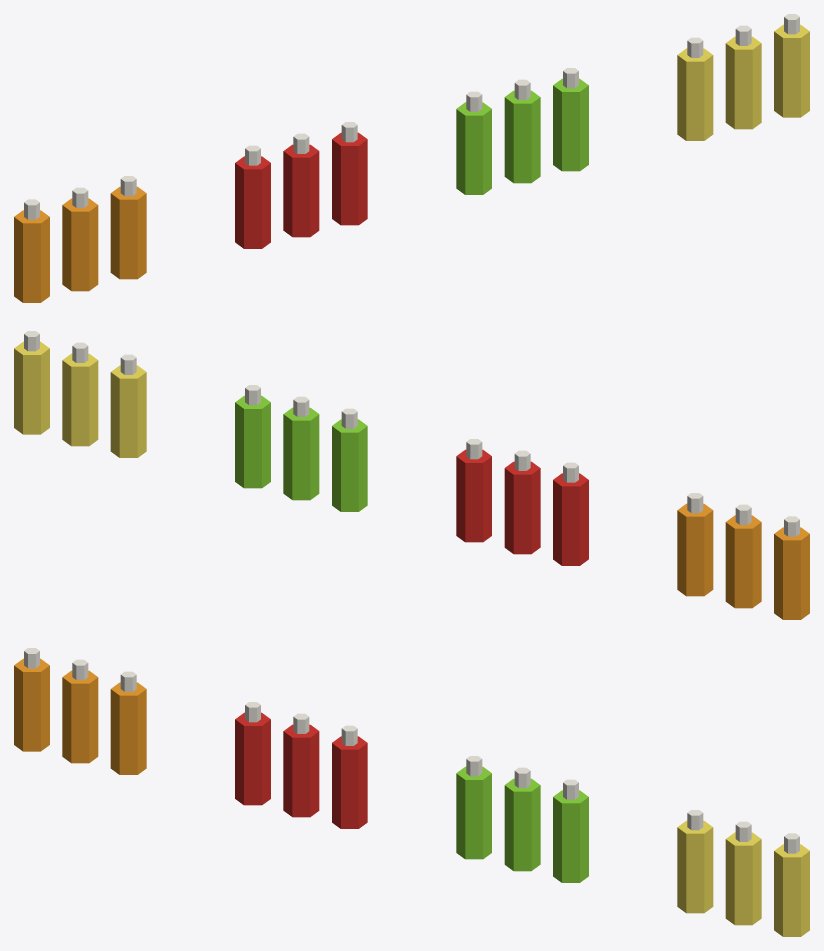
The model's file is market_food_juice.glb.
3 renders of one model, top to bottom at view 1: azimuth 30°, elevation 25°; view 2: azimuth 150°, elevation 25°; view 3: azimuth 330°, elevation 25°, orthographic.
Visible parts, largest first — view 1: goods_juice_orange, goods_juice_yellow, goods_juice_red, goods_juice_green; view 2: goods_juice_orange, goods_juice_yellow, goods_juice_red, goods_juice_green; view 3: goods_juice_yellow, goods_juice_orange, goods_juice_green, goods_juice_red.
Part boxes in pixels (box(x1,y1,x2,y2)): goods_juice_orange: box(14, 186, 146, 302); goods_juice_yellow: box(677, 24, 809, 140); goods_juice_red: box(235, 132, 367, 248); goods_juice_green: box(456, 78, 588, 194); goods_juice_orange: box(677, 503, 809, 619); goods_juice_yellow: box(14, 341, 146, 457); goods_juice_red: box(456, 449, 588, 565); goods_juice_green: box(235, 395, 367, 511); goods_juice_yellow: box(677, 820, 809, 936); goods_juice_orange: box(14, 658, 146, 774); goods_juice_green: box(456, 766, 588, 882); goods_juice_red: box(235, 712, 367, 828).
Size of the model in its own units: 2.28 by 0.26 by 0.09.
